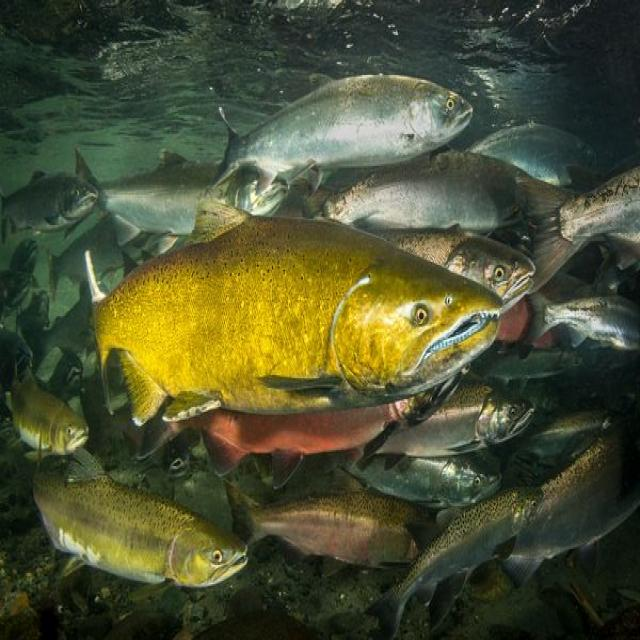salmon: (75, 220, 536, 458), (202, 59, 497, 208), (32, 446, 260, 611)
